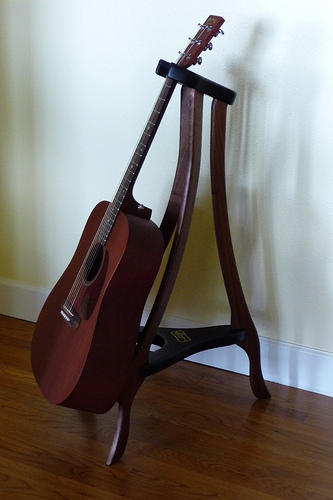guitar: (28, 12, 227, 417)
